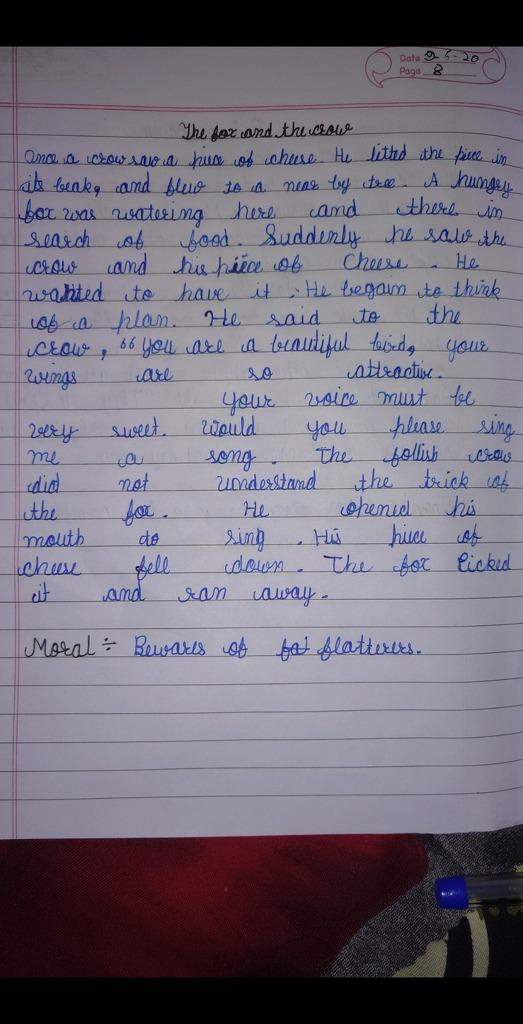text: (16, 166, 515, 205), (25, 327, 491, 365), (25, 411, 517, 446), (23, 220, 506, 254), (28, 303, 464, 339), (21, 275, 503, 307), (15, 195, 507, 226), (21, 248, 484, 280), (22, 140, 510, 170), (19, 631, 423, 665), (203, 440, 515, 474), (224, 550, 512, 584), (220, 381, 477, 418), (222, 519, 485, 555), (215, 466, 514, 495), (99, 578, 330, 610), (177, 116, 354, 144), (336, 493, 480, 523), (344, 357, 442, 382), (15, 553, 85, 580), (22, 360, 79, 393), (21, 525, 86, 551), (398, 48, 481, 65), (119, 497, 156, 530), (25, 470, 63, 499), (135, 553, 171, 583), (22, 498, 58, 524), (396, 62, 445, 79), (135, 365, 174, 386), (116, 471, 151, 494), (241, 499, 272, 523), (25, 448, 62, 468), (28, 581, 51, 608), (115, 452, 145, 471), (245, 365, 275, 383), (136, 531, 160, 549)
